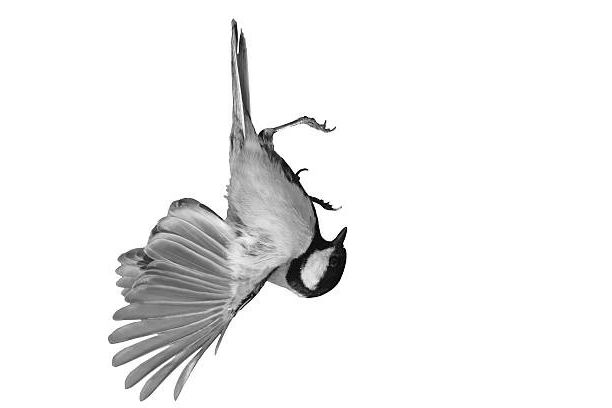Bird: (107, 16, 353, 401)
